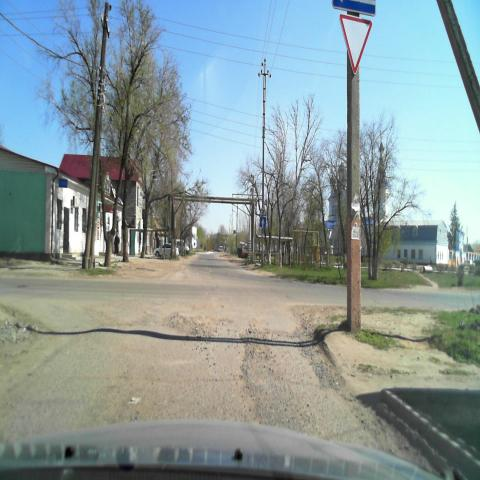1_21: (259, 205, 267, 215)
2_4: (338, 13, 372, 77)
5_5: (259, 216, 266, 228)
